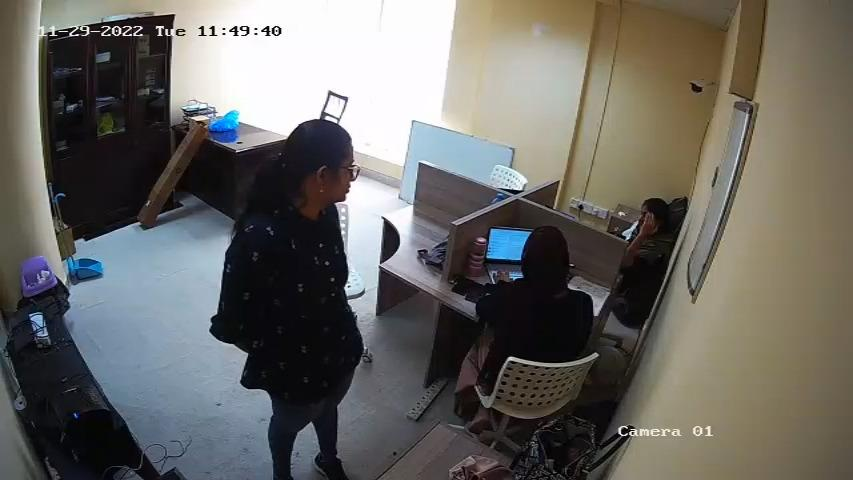no_apron: (264, 224, 359, 408)
